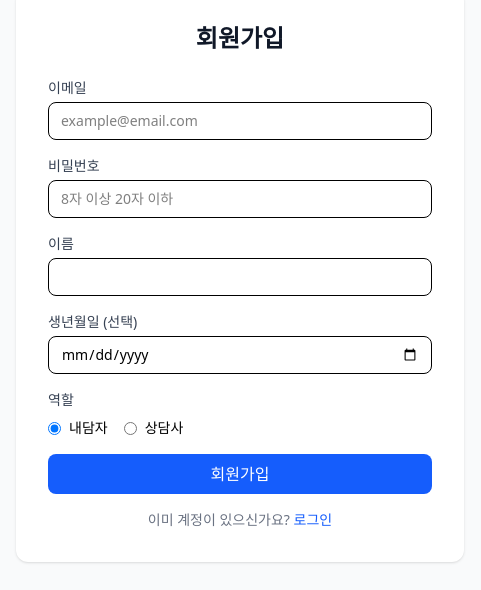
Test: SignupPage › 비밀번호가 8자 미만이면 에러 메시지를 표시한다
The width and height of the screenshot is (481, 590).
Type "new@example.com" into the field labelled "이메일" at (240, 121), box top-left (48, 102), bottom-right (432, 140)
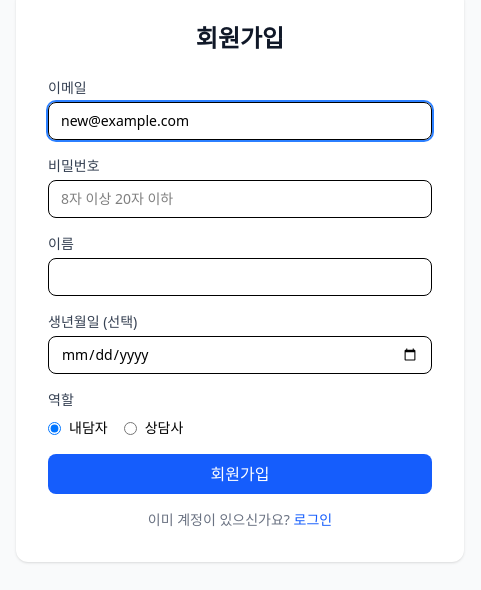
Type "short" into the password field labelled "비밀번호" at (240, 199), box top-left (48, 180), bottom-right (432, 218)
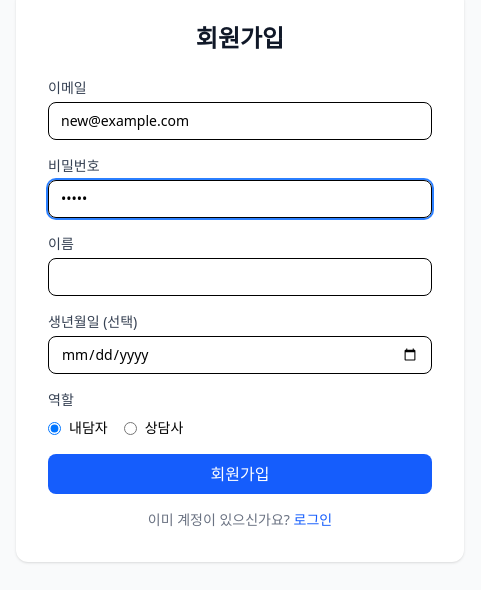
Type "홍길동" into the field labelled "이름" at (240, 277), box top-left (48, 258), bottom-right (432, 296)
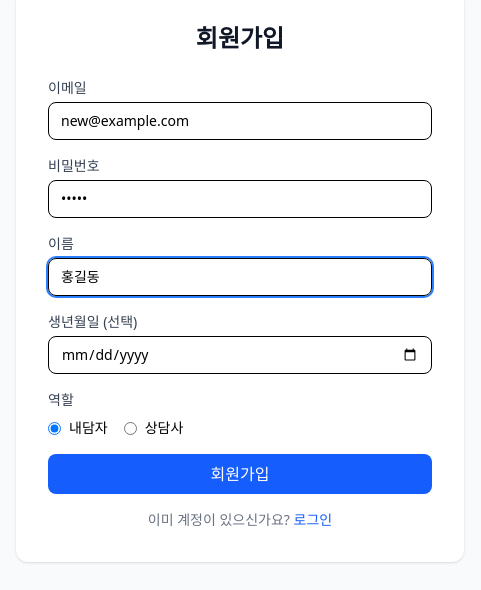
Click the button "회원가입" at (240, 474), box top-left (48, 454), bottom-right (432, 494)
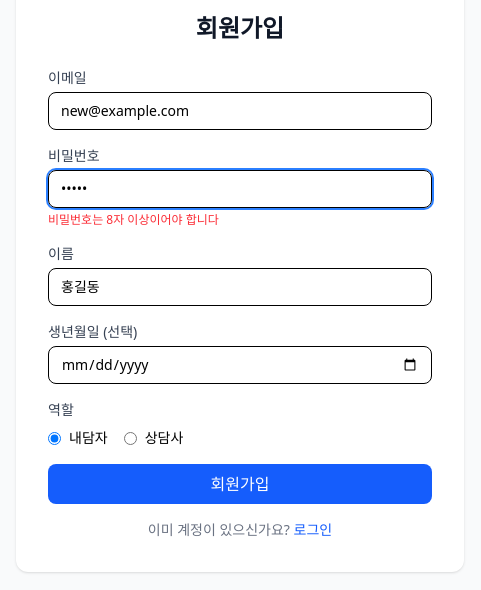
Expected: the text "비밀번호는 8자 이상이어야 합니다" is shown, top-left (48, 211), bottom-right (219, 228)
